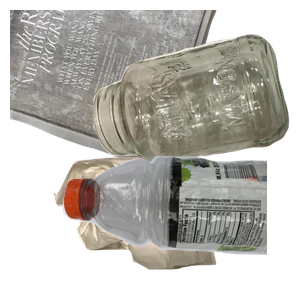glass: (91, 32, 300, 189)
paper: (10, 10, 222, 176)
plastic: (60, 152, 300, 300)
trash: (51, 155, 261, 300)
